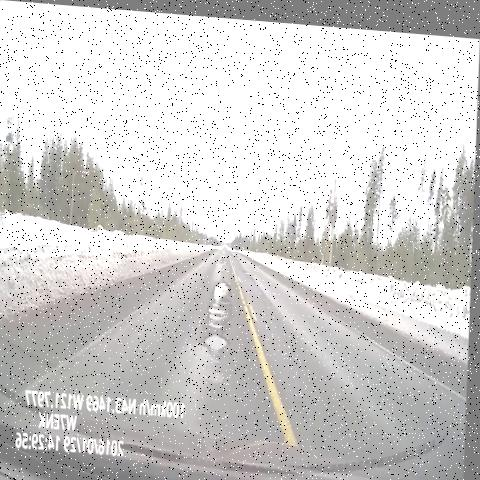pothole: (198, 319, 237, 387), (209, 274, 237, 305), (205, 303, 231, 330), (215, 244, 230, 273)
